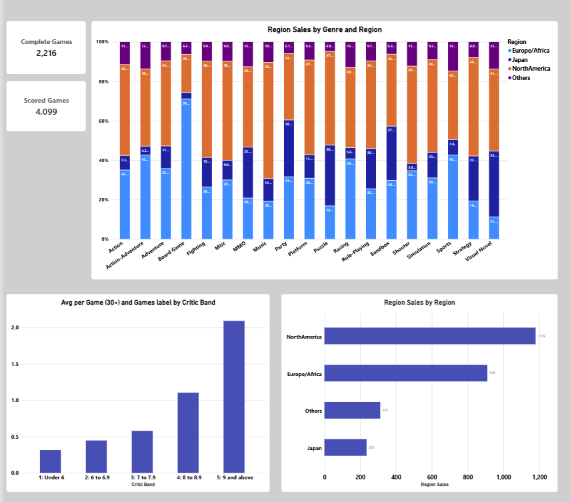

This screenshot's page, from the dashboard's own definition file:
{"tool":"powerbi","page":{"name":"Regions&Critic Scores","canvas":[2000,1840],"ordinal":1},"visuals":[{"type":"cardVisual","fields":{"Data":["sales_analysis.Complete Games"]},"box":[10,130,280,187.5],"z":0},{"type":"cardVisual","fields":{"Data":["sales_analysis.Scored Games"]},"box":[10,340,280,177.5],"z":1000},{"type":"clusteredBarChart","fields":{"Category":["Regions.Region"],"Y":["sales_analysis.Region Sales"]},"box":[980,1090,972.5,697.5],"z":2000},{"type":"hundredPercentStackedColumnChart","title":"Region Sales by Genre and Region","fields":{"Category":["sales_analysis.genre"],"Series":["Regions.Region"],"Y":["sales_analysis.Region Sales"]},"box":[310,130,1642.5,910],"z":3000},{"type":"clusteredColumnChart","fields":{"Category":["sales_analysis.Critic Band"],"Y":["sales_analysis.Avg per Game (30+)"]},"box":[10,1090,927.5,697.5],"z":4000}]}

Visuals, with their boxes on the page's 2000x1840 design canvas (x1, y1, x2, y2). These are canvas units, not pixel positions in the 571x502 screenshot, which may show the page scaled, cropped or inside an application window:
cardVisual - sales_analysis.Complete Games: [10, 130, 290, 318]
cardVisual - sales_analysis.Scored Games: [10, 340, 290, 518]
clusteredBarChart - Regions.Region x sales_analysis.Region Sales: [980, 1090, 1952, 1788]
"Region Sales by Genre and Region" hundredPercentStackedColumnChart: [310, 130, 1952, 1040]
clusteredColumnChart - sales_analysis.Critic Band x sales_analysis.Avg per Game (30+): [10, 1090, 938, 1788]
